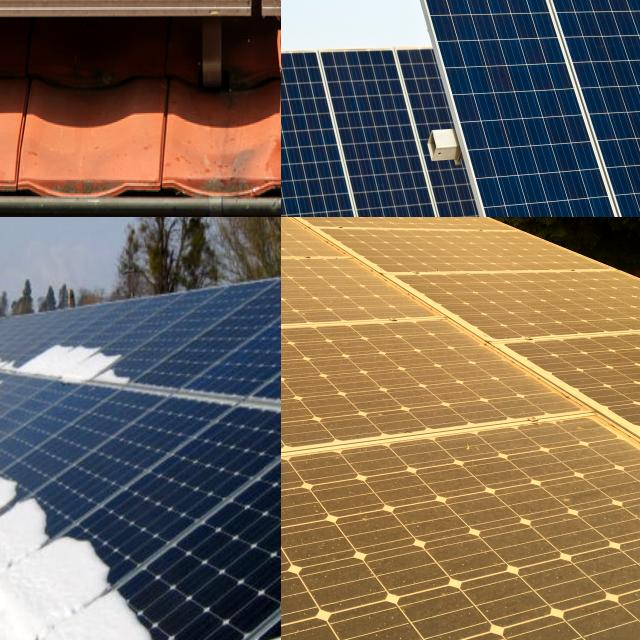crack: (411, 0, 640, 217), (308, 37, 451, 217), (527, 0, 640, 217), (281, 46, 371, 217), (281, 64, 343, 217)
dust: (114, 0, 238, 110), (0, 0, 118, 97), (90, 0, 228, 63), (0, 0, 105, 61)
panel: (0, 331, 134, 413), (0, 520, 110, 602), (0, 441, 74, 550), (32, 581, 168, 640), (0, 350, 58, 438), (0, 313, 53, 377)
